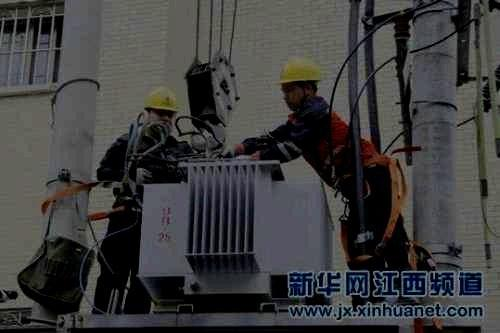helmet: (274, 57, 323, 110), (144, 86, 178, 132)
